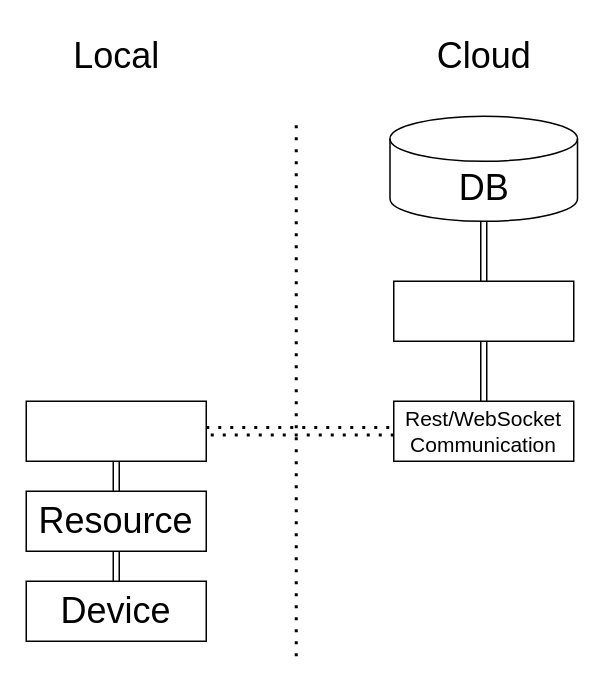
Image size: 605x684. Some labels were removed from this diagram. The centre of each missing label's shape, as x and y in pixels:
"App" belongs at (483,310).
"Controller Service" belongs at (115,430).
